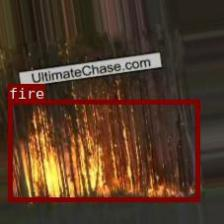fire: (7, 99, 199, 201)
